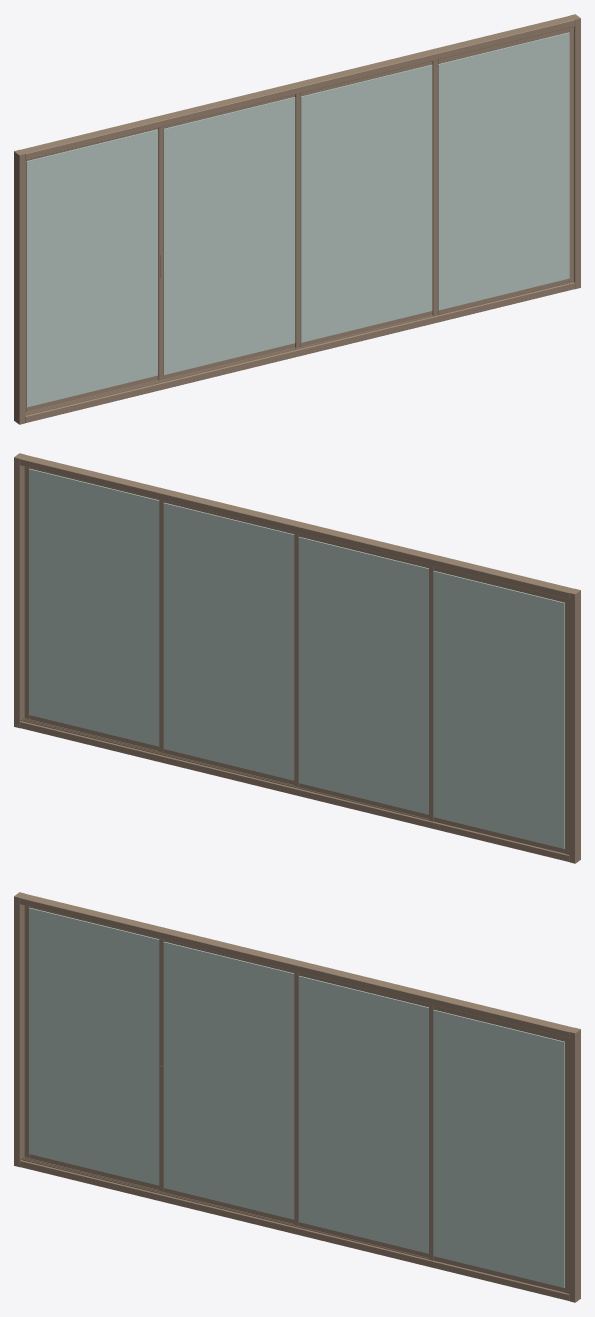
Rendered from co-S86RP-4-quartz-1019.glb.
3 views of the same model, one above another, from view 1: azimuth 30°, elevation 25°; view 2: azimuth 150°, elevation 25°; view 3: azimuth 330°, elevation 25° (orthographic).
Visible parts, largest first — view 1: verre, structure; view 2: verre, structure; view 3: verre, structure.
Boxes of the visible parts, left/top/right/bottom form: verre: left=26, top=32, right=569, bottom=407; structure: left=14, top=14, right=580, bottom=424; verre: left=29, top=468, right=564, bottom=848; structure: left=14, top=453, right=580, bottom=863; verre: left=29, top=907, right=564, bottom=1287; structure: left=14, top=892, right=580, bottom=1302.
Size of the model in its own units: 4.8 by 2.2 by 0.086.
